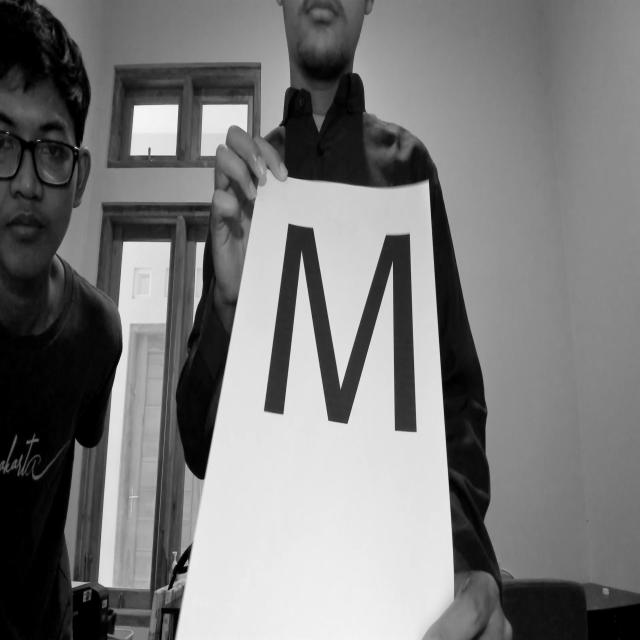m: (255, 204, 435, 466)
